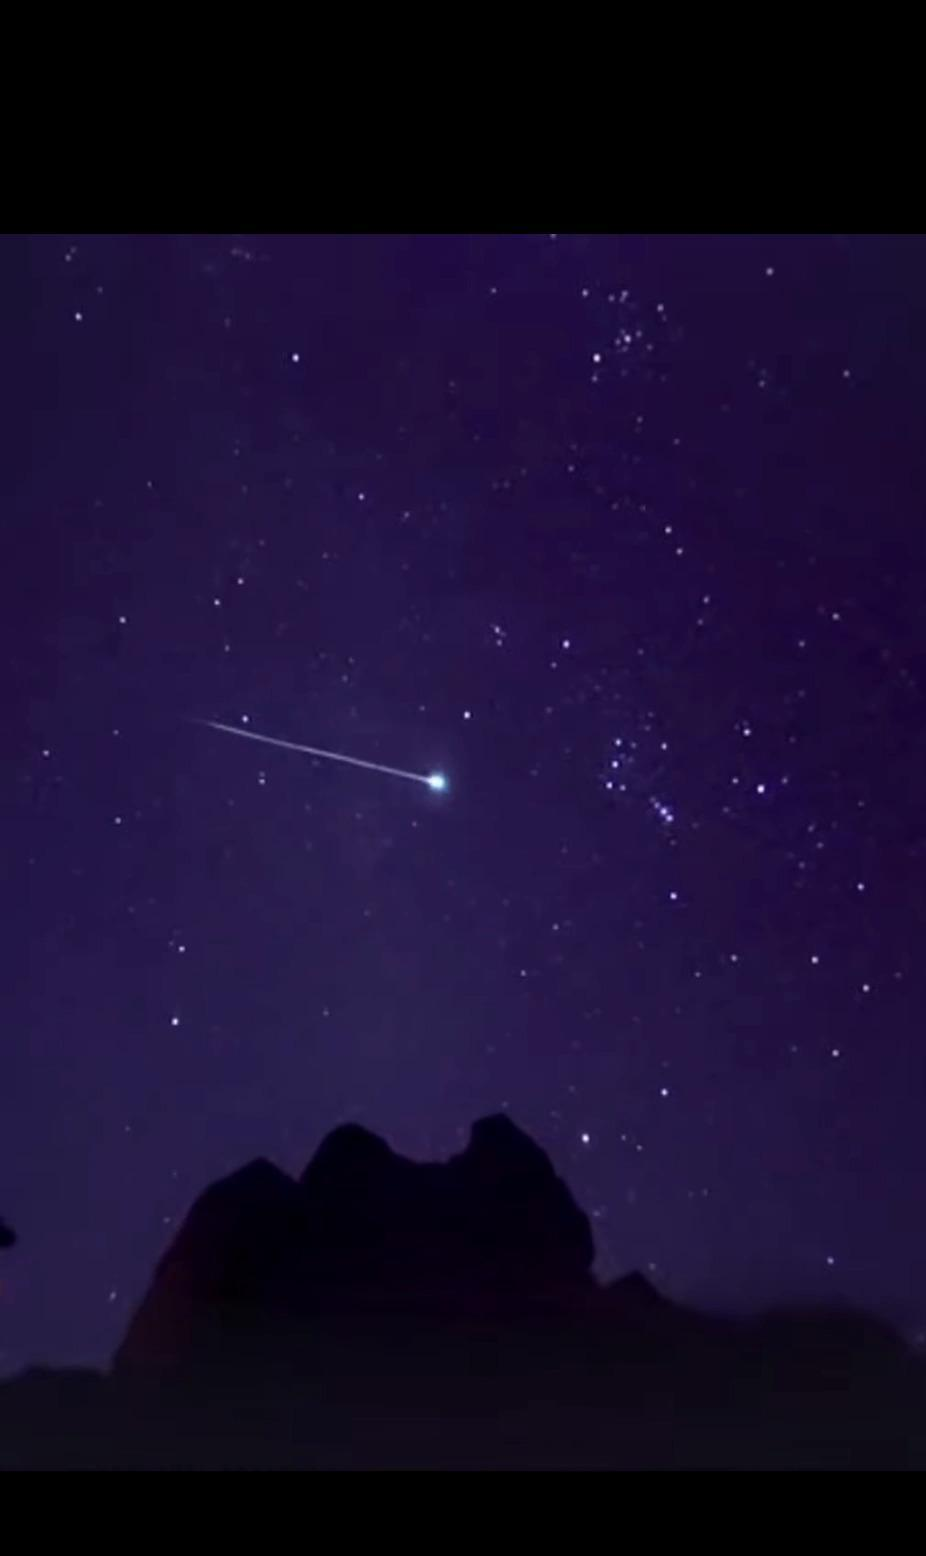meteorite: (200, 707, 467, 789)
